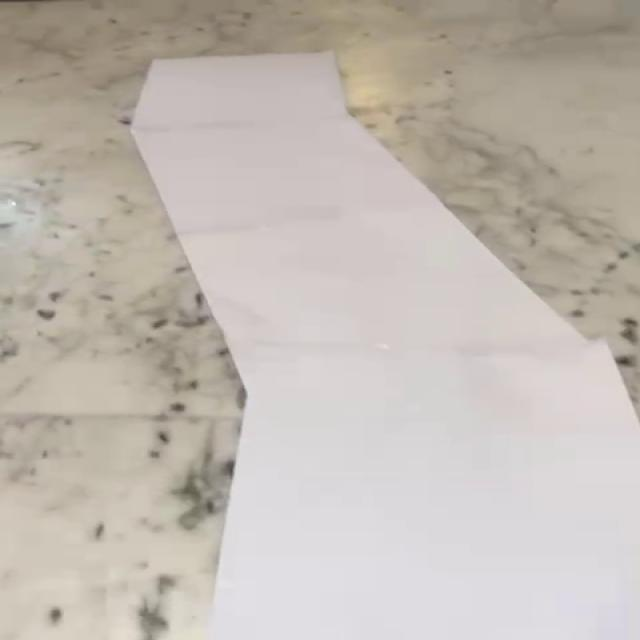road: (131, 48, 637, 640)
